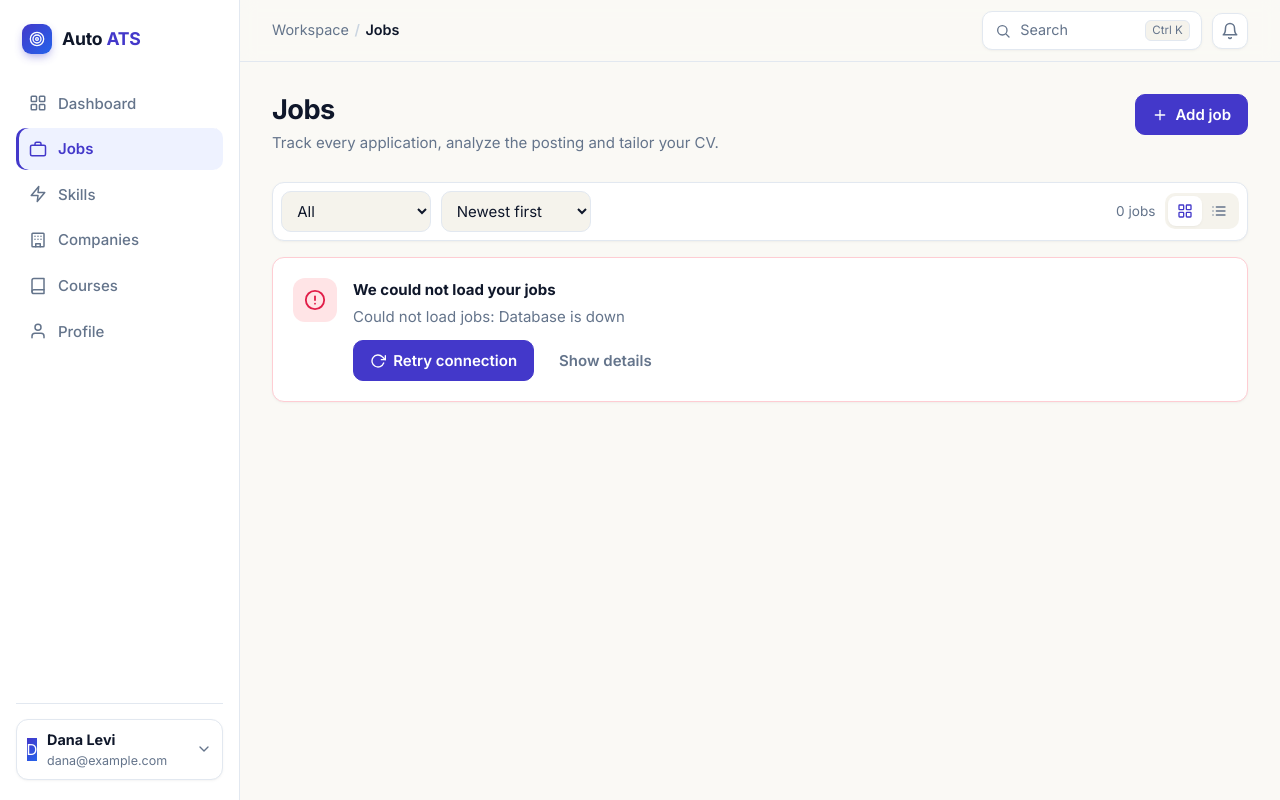
Test: JobsPage › GivenErrorState_WhenTogglingDetails_ThenHelpTextAppearsAndDisappears
Step 1. Click the button "Show details" → point(605, 361), box top-left (542, 340), bottom-right (669, 381)
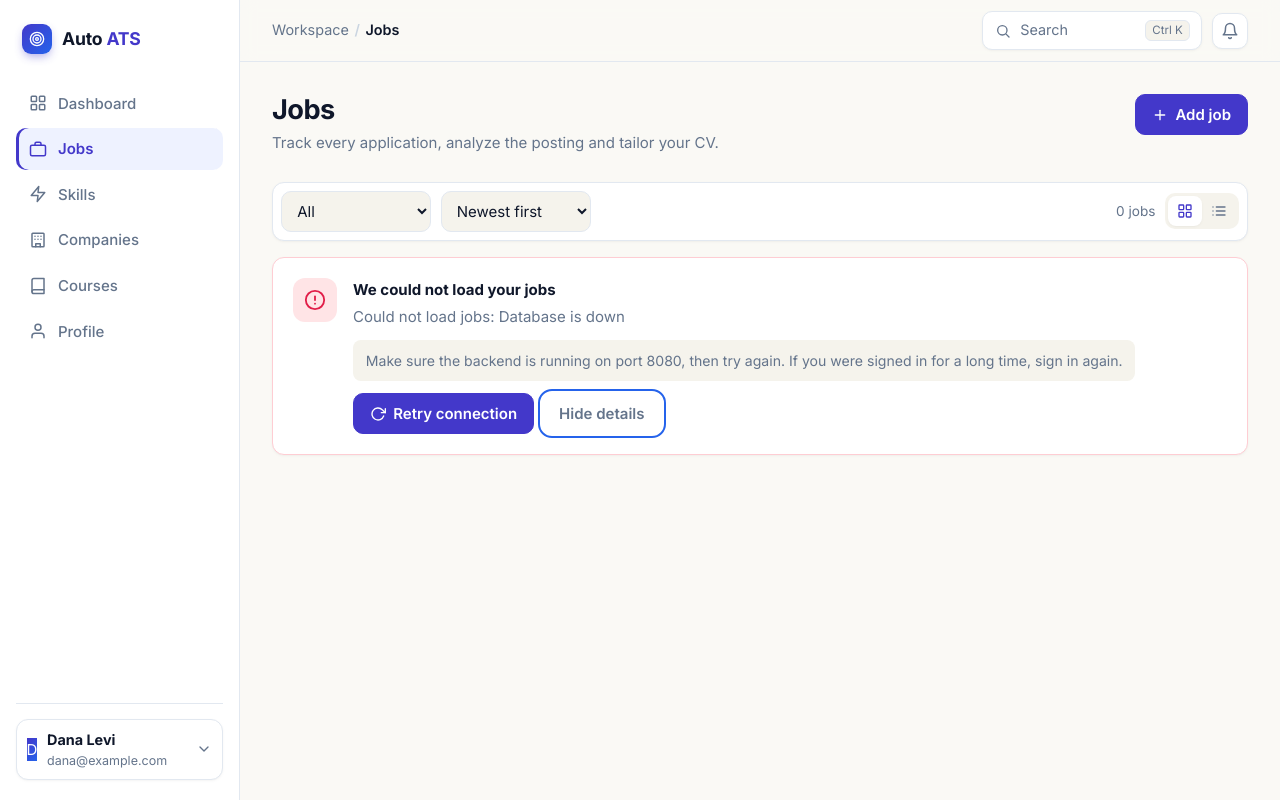
Check: the text with test id "error-details" shows "backend is running", box top-left (366, 352), bottom-right (1123, 369)
Step 2. Click the button "Hide details" → point(602, 414), box top-left (542, 393), bottom-right (662, 434)
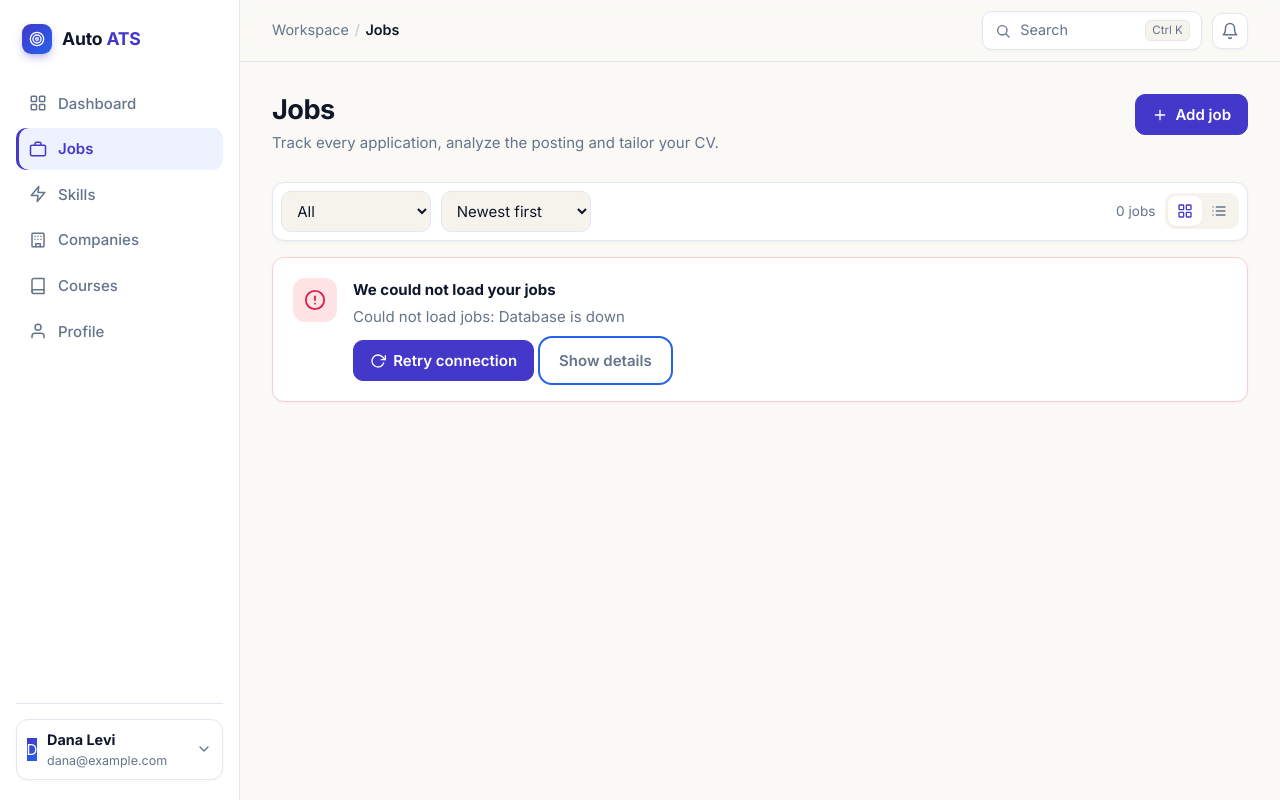
Check: the text with test id "error-details" is gone
